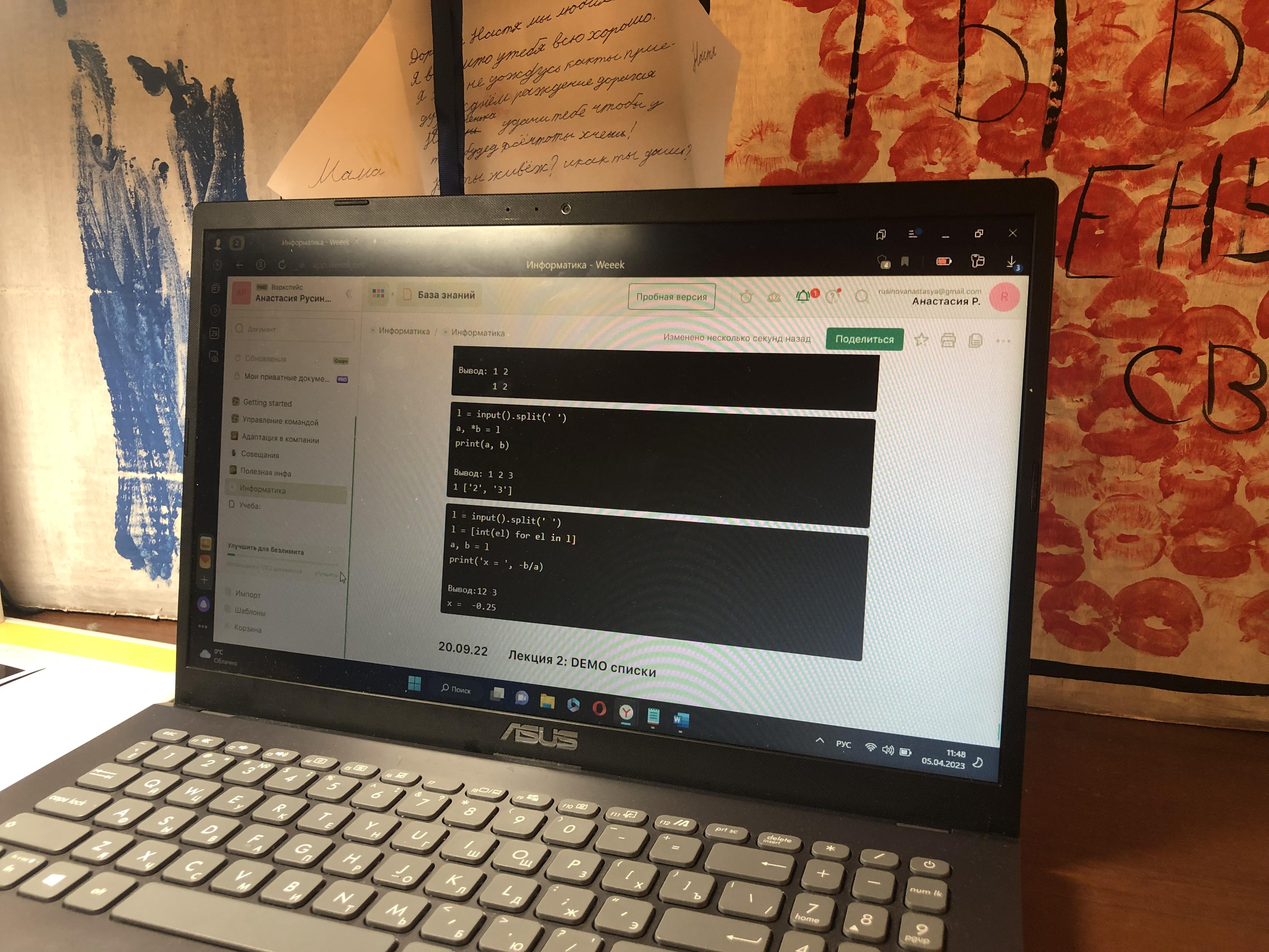monitor: (161, 172, 1067, 839)
